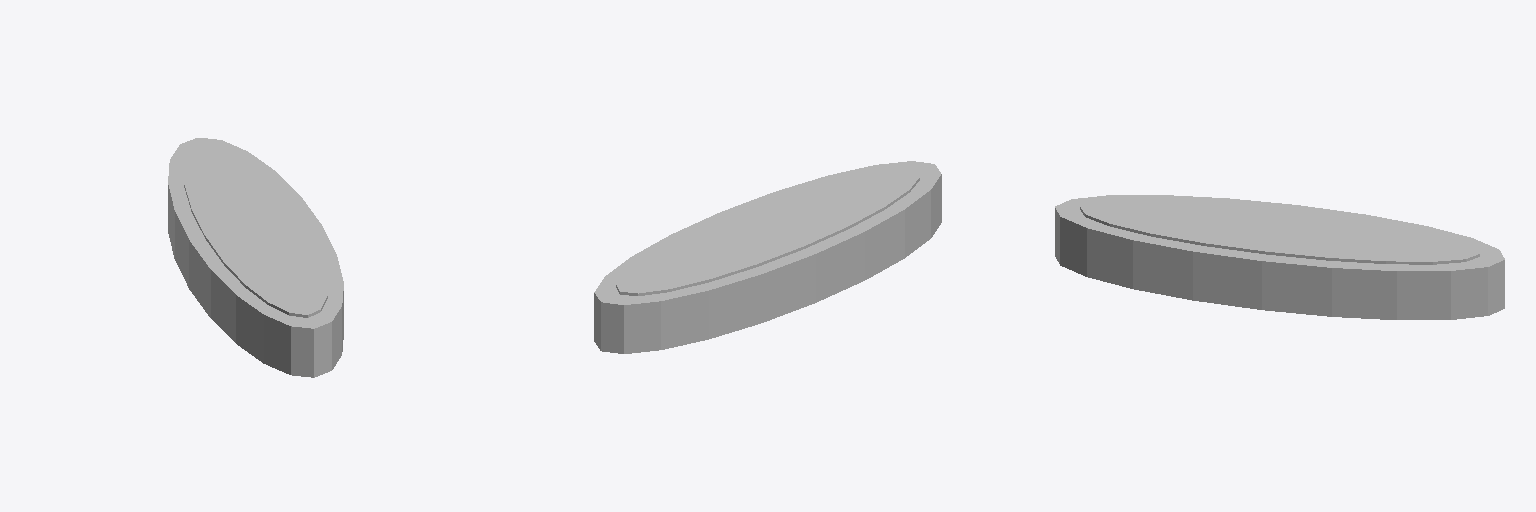
File: flipperIzq.obj
The picture shows the model from 3 angles: view 1: azimuth 30°, elevation 25°; view 2: azimuth 150°, elevation 25°; view 3: azimuth 270°, elevation 25°; orthographic projection.
Visible parts, largest first — view 1: FlipperIzquierdo; view 2: FlipperIzquierdo; view 3: FlipperIzquierdo.
Boxes of the visible parts, <box> form: FlipperIzquierdo: <box>168,138,343,377</box>; FlipperIzquierdo: <box>594,161,941,353</box>; FlipperIzquierdo: <box>1055,195,1504,319</box>.
Size of the model in its own units: 0.4813 by 0.1537 by 1.2.